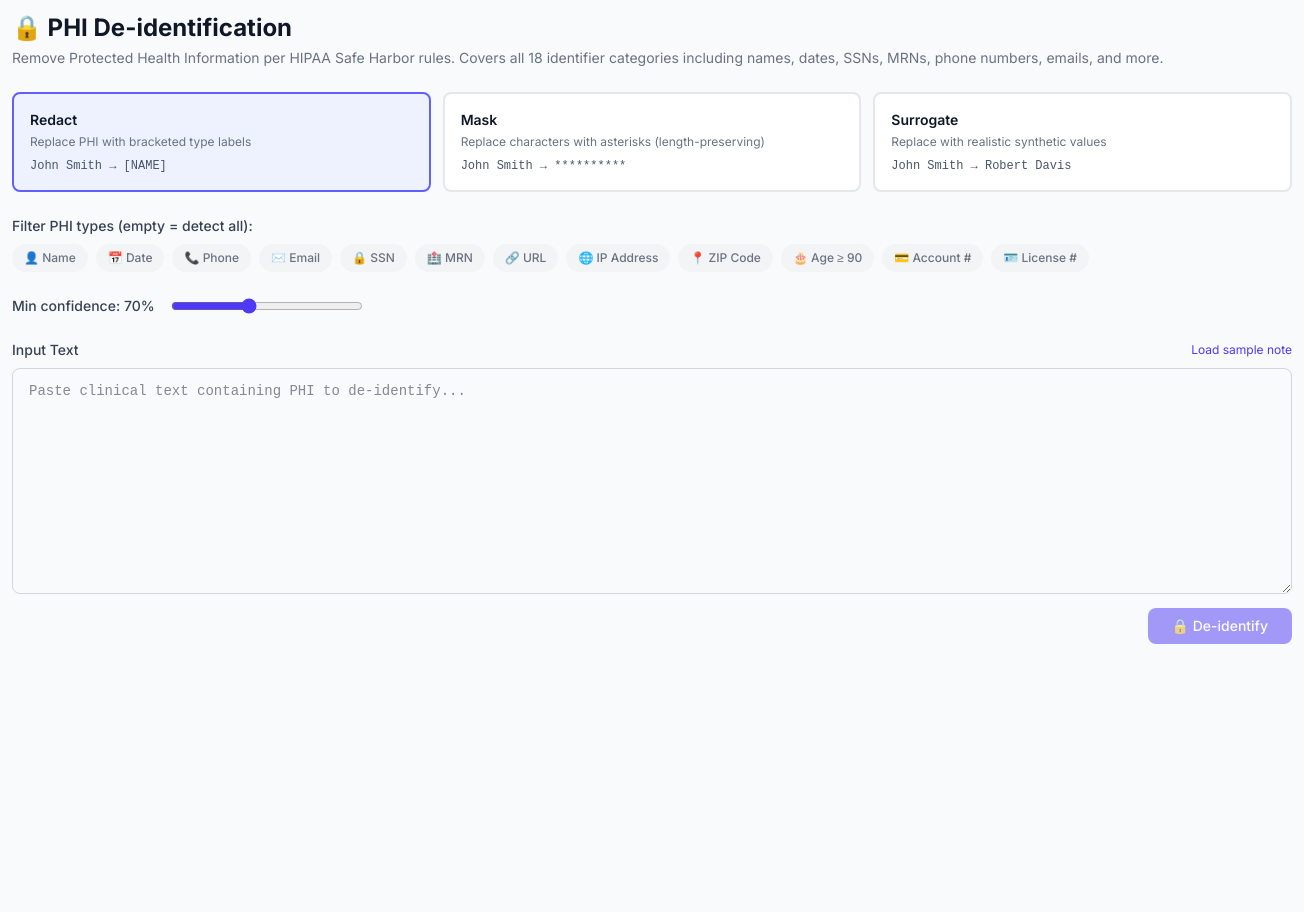
Test: Deidentification › enables button after entering text
The image size is (1304, 912).
Type "Patient: John Smith" into the text box with placeholder "Paste clinical text containing PHI to de-identify..." at point(652, 481), box x1=12 y1=368 x2=1292 y2=594
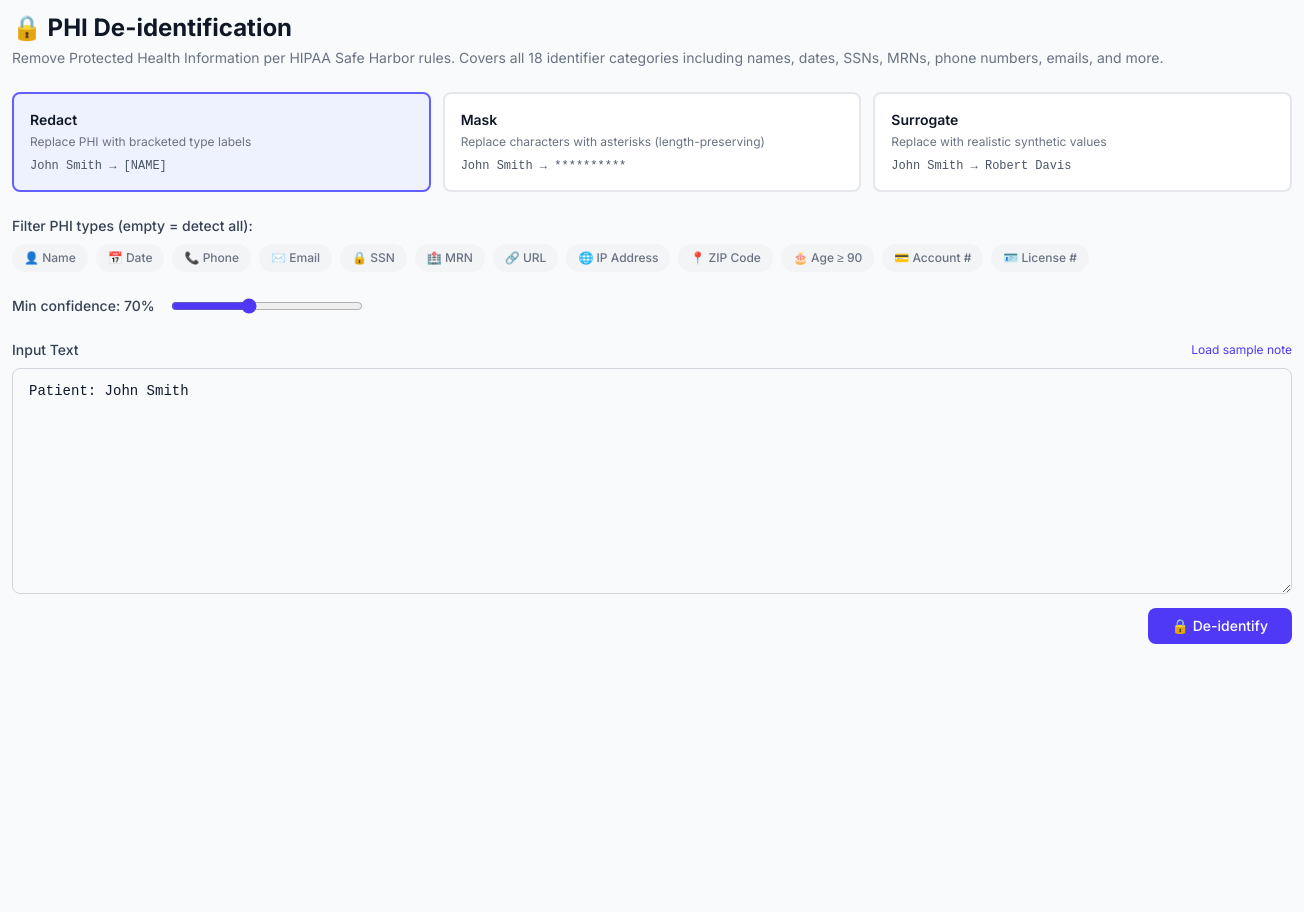
Expected: the button "🔒 De-identify" is enabled, x1=1148 y1=608 x2=1292 y2=644
